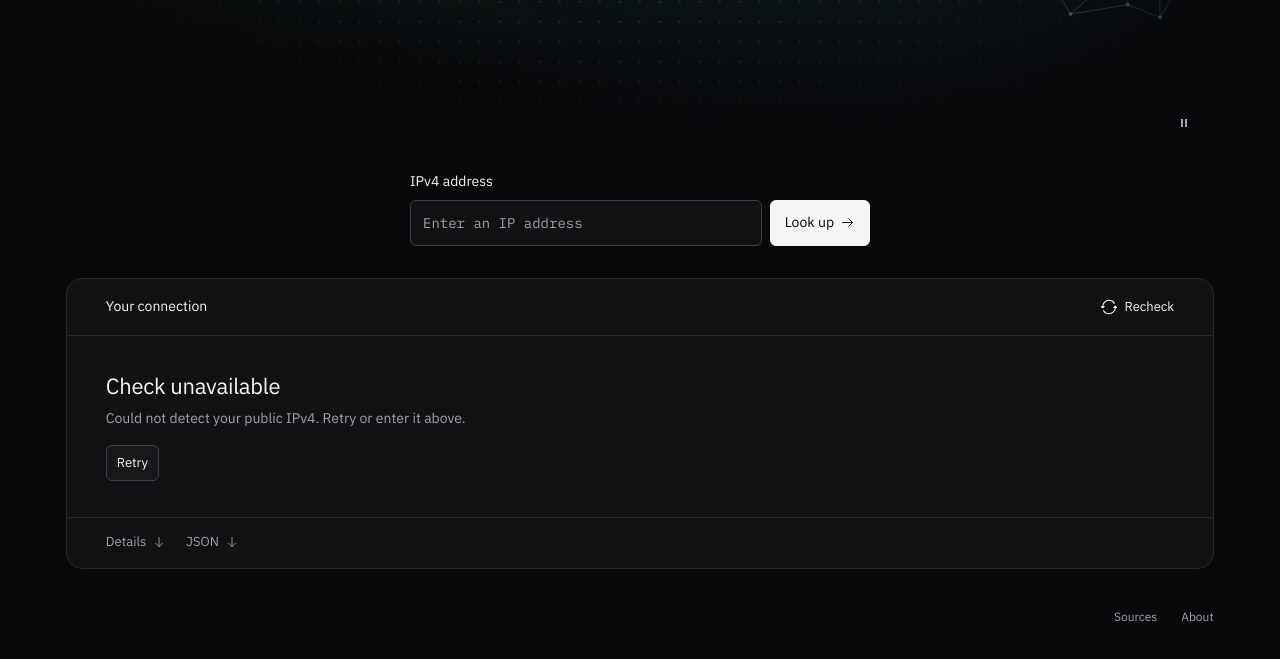
Test case: focused live connection screen › retries local IPv4 discovery after the provider fails
(page scrolled)
Click the button "Retry" at (132, 463), box [106,445,159,481]
(page scrolled)
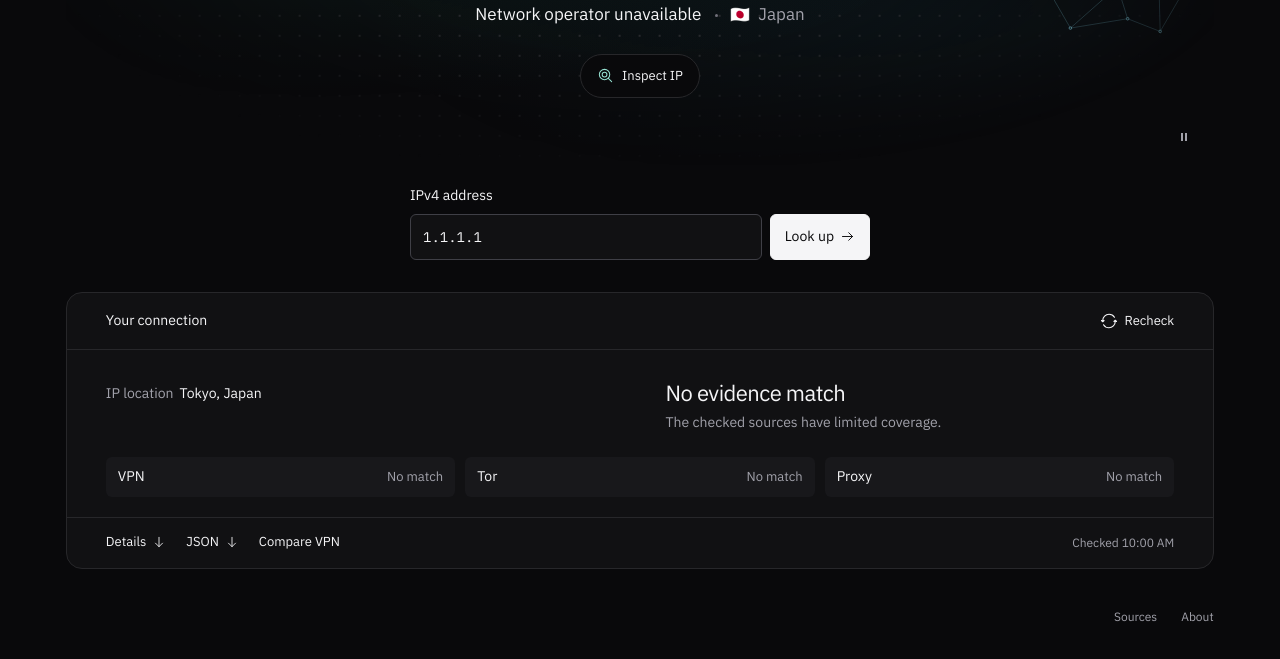
Expected: the field labelled "IPv4 address" holds "1.1.1.1", [410,214,762,260]
